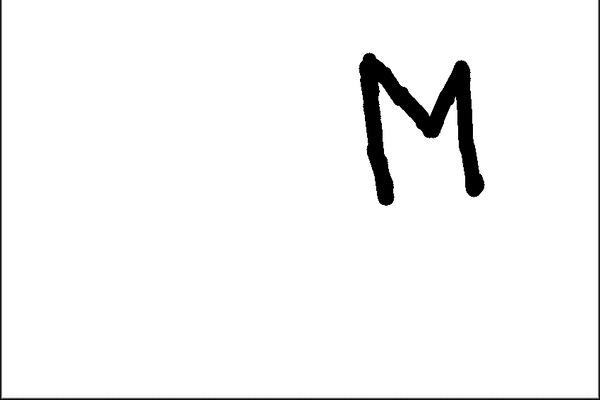M: (353, 47, 487, 205)
